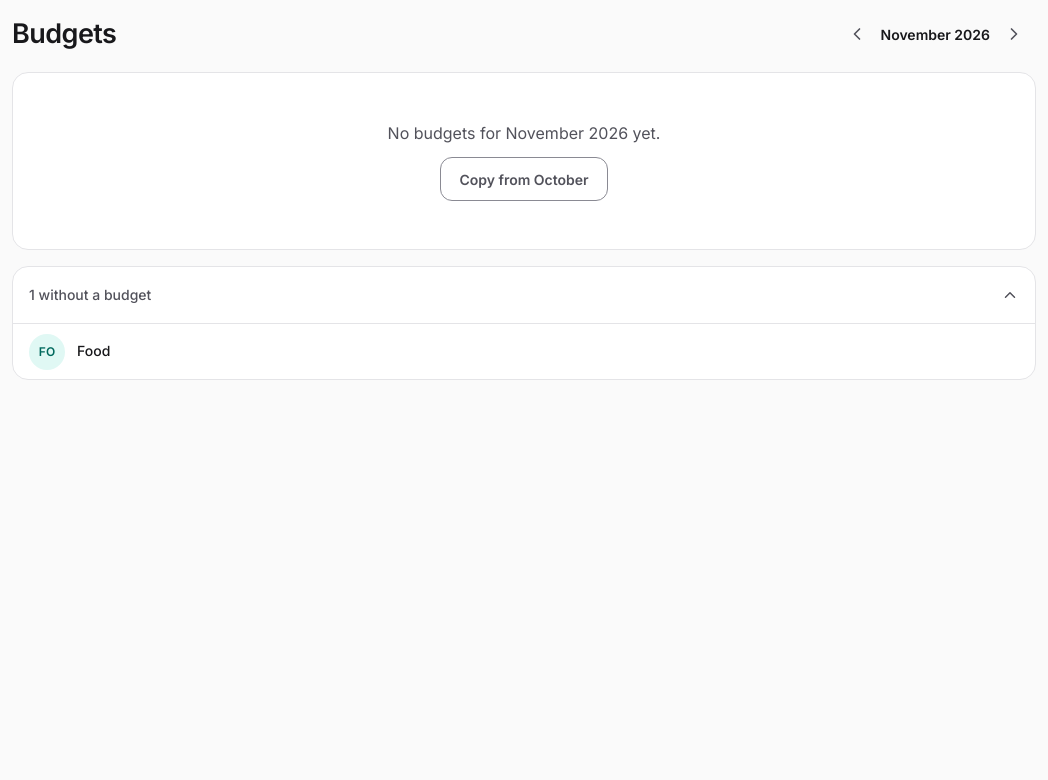
Test case: an empty month › says budget, not budgets, when one was copied
What coordinates should you click on to do the following:
click the button "Copy from October"
I would click on:
 (524, 179)
Its box is [440,157,608,201].
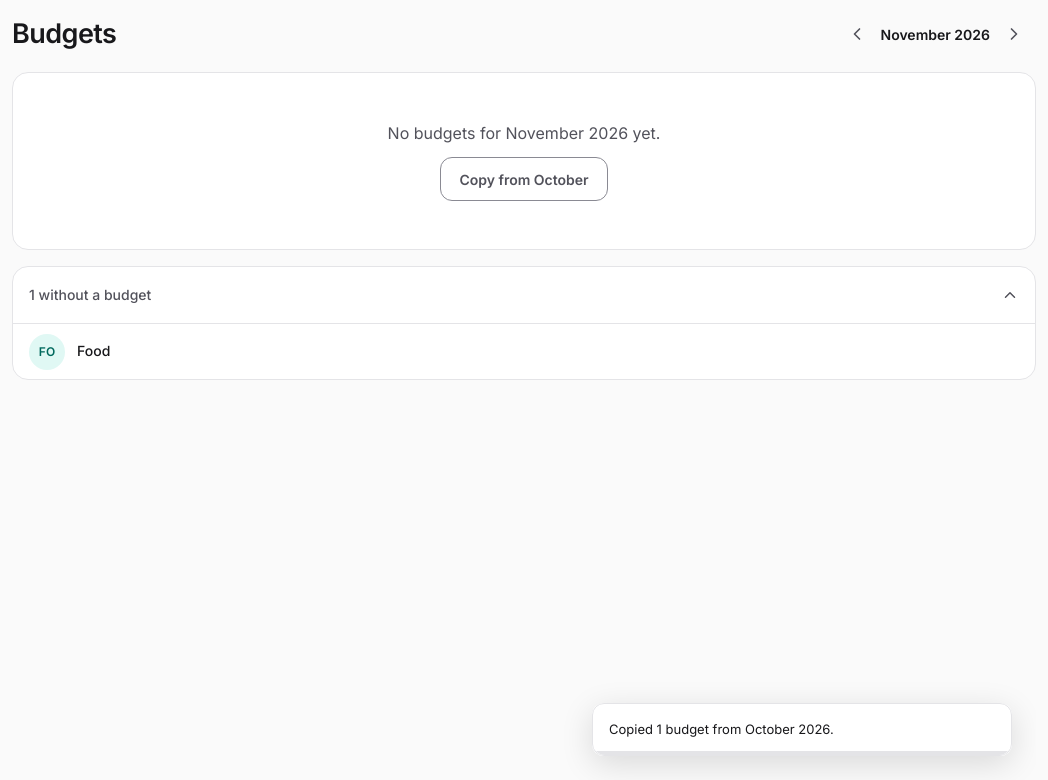
Check: the text "Copied 1 budget from October 2026." is shown, box [609,720,834,736]
